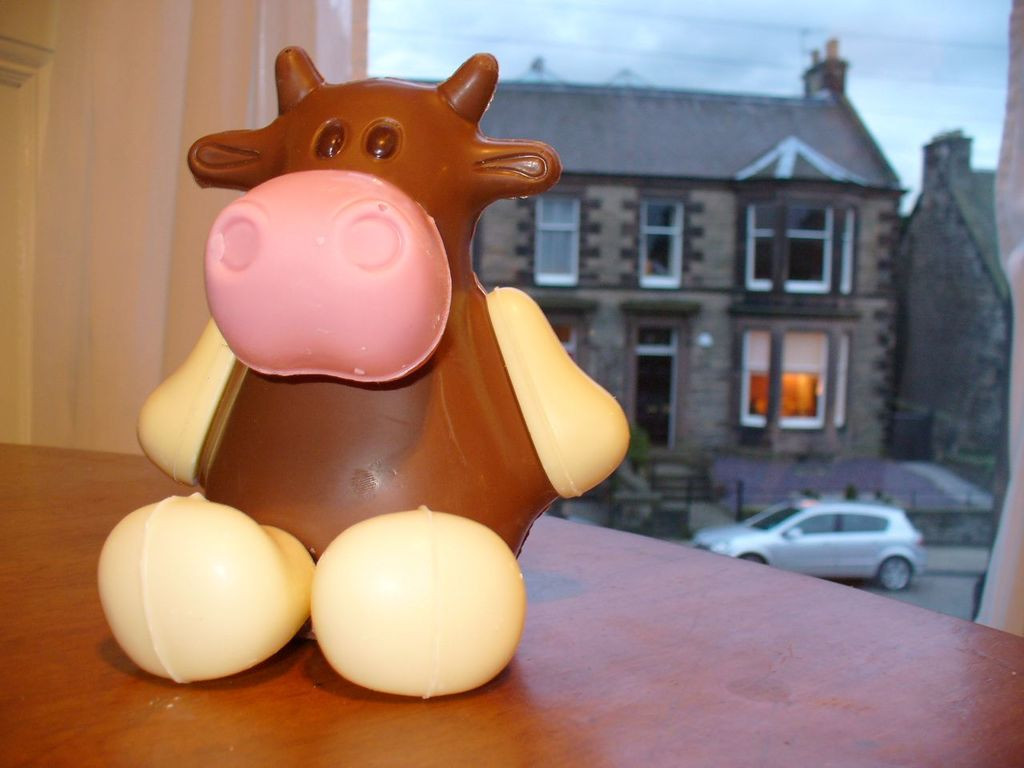Car: (703, 495, 945, 595)
